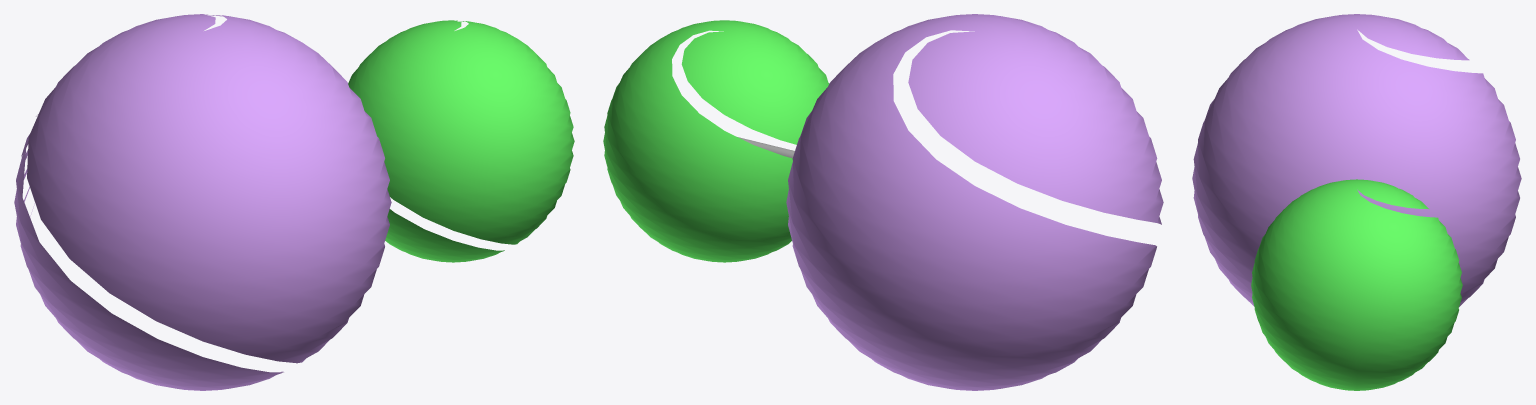
The model's file is nacl.glb.
3 renders of one model, left to right at view 1: azimuth 30°, elevation 25°; view 2: azimuth 150°, elevation 25°; view 3: azimuth 270°, elevation 25°, orthographic. The views are drawn at different scales.
Bounding box in the file's own units: 4.89 × 3.07 × 3.08.
